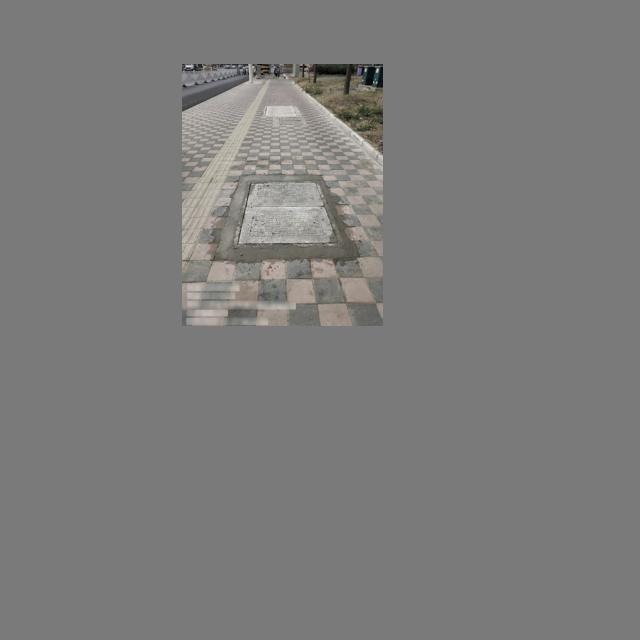good: (230, 180, 344, 247)
